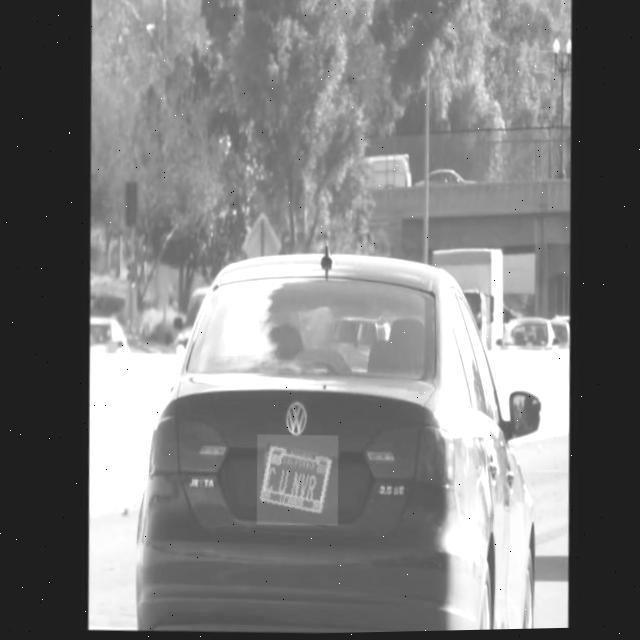LicensePlate: (251, 434, 337, 528)
